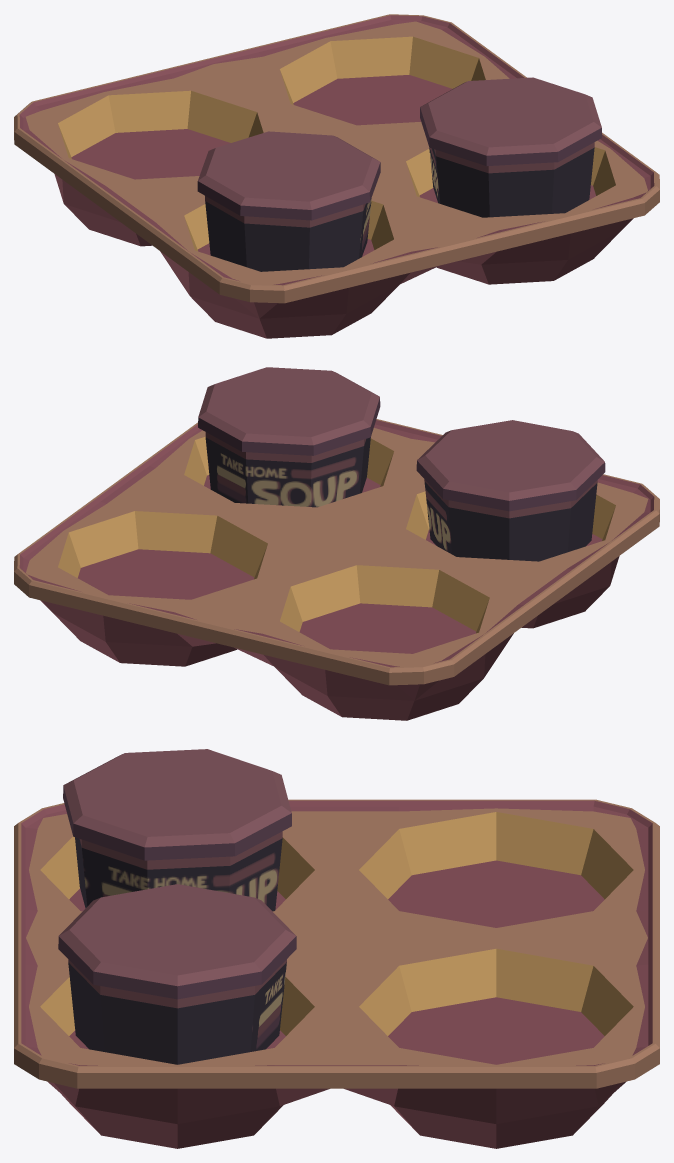
File: Carryable_Soup_2.fbx
3 views of the same model, one above another, from view 1: azimuth 30°, elevation 25°; view 2: azimuth 150°, elevation 25°; view 3: azimuth 270°, elevation 25° (orthographic). The views are drawn at different scales.
Parts seen in each view (by area): view 1: Carryable_Soup_2; view 2: Carryable_Soup_2; view 3: Carryable_Soup_2.
Part boxes in pixels (bbox=[...]): Carryable_Soup_2: bbox=[14, 14, 659, 338]; Carryable_Soup_2: bbox=[14, 367, 659, 720]; Carryable_Soup_2: bbox=[14, 749, 659, 1148].
Bounding box in the file's own units: 122 × 36.24 × 122.
